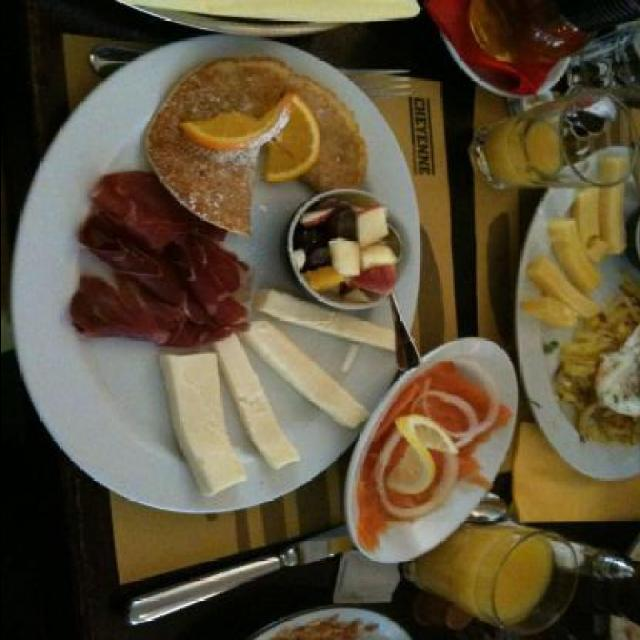Juice: (402, 522, 568, 630)
